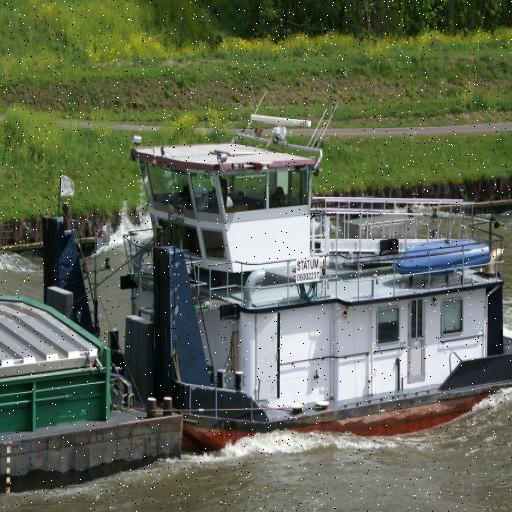tugboat: (40, 112, 512, 456)
